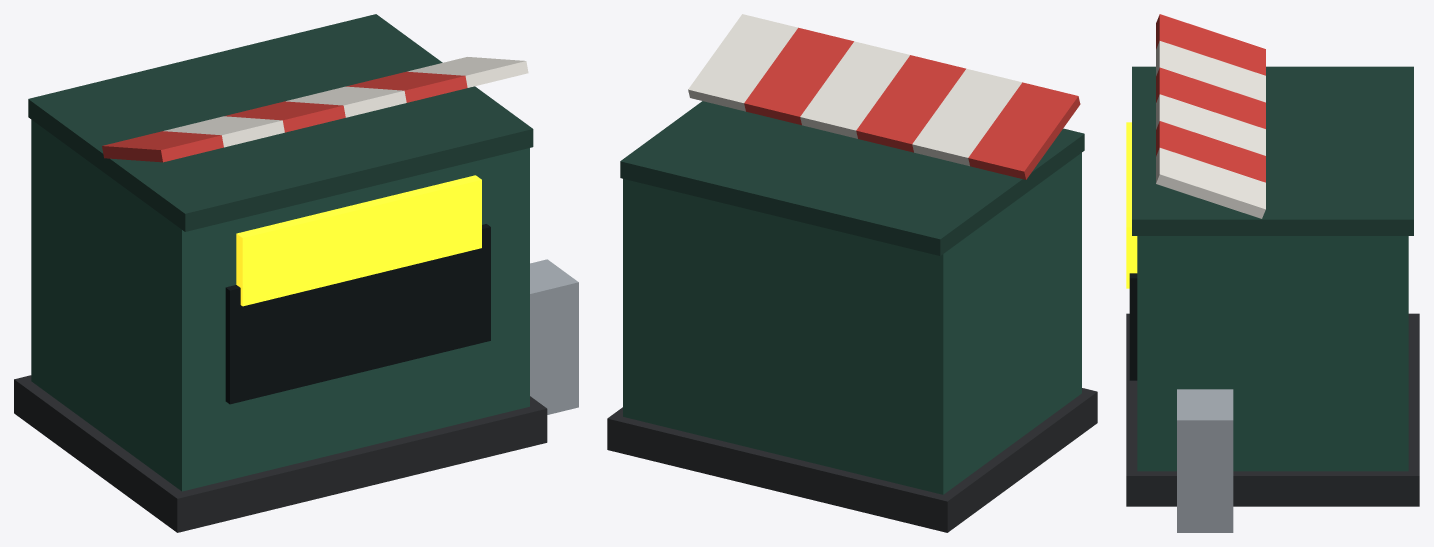
Rendered from kiosk.glb.
The picture shows the model from 3 angles, left to right: view 1: azimuth 30°, elevation 25°; view 2: azimuth 150°, elevation 25°; view 3: azimuth 270°, elevation 25°; orthographic projection. The views are drawn at different scales.
Parts seen in each view (by area): view 1: kiosk; view 2: kiosk; view 3: kiosk.
Boxes of the visible parts, box(x1,y1,x2,y2) form: kiosk: box(14, 14, 578, 532); kiosk: box(607, 14, 1097, 532); kiosk: box(1126, 14, 1419, 532).
Bounding box in the file's own units: 3.95 × 3.24 × 2.6.
